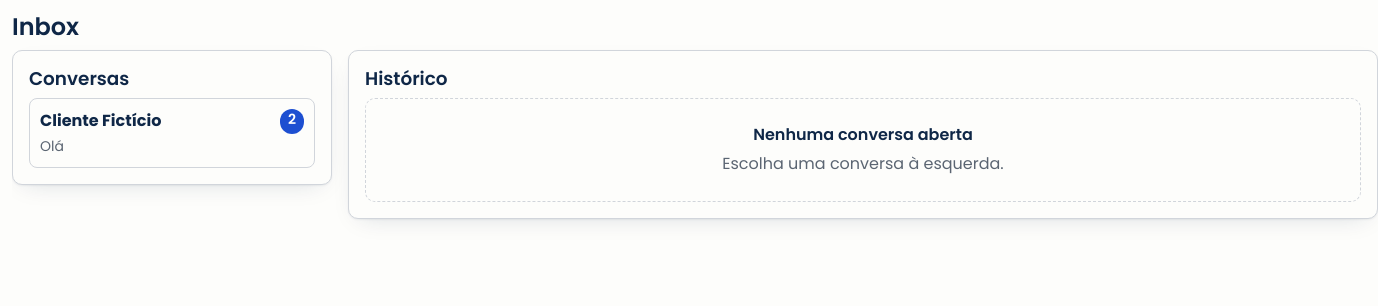
it: TELA 3 — Inbox › Read Only vê a sugestão mas NÃO vê botão de enviar/descartar nem campo de resposta
Step 1. Click the button "Cliente Fictício 2 Olá" → (101, 120), box [29,98,315,168]
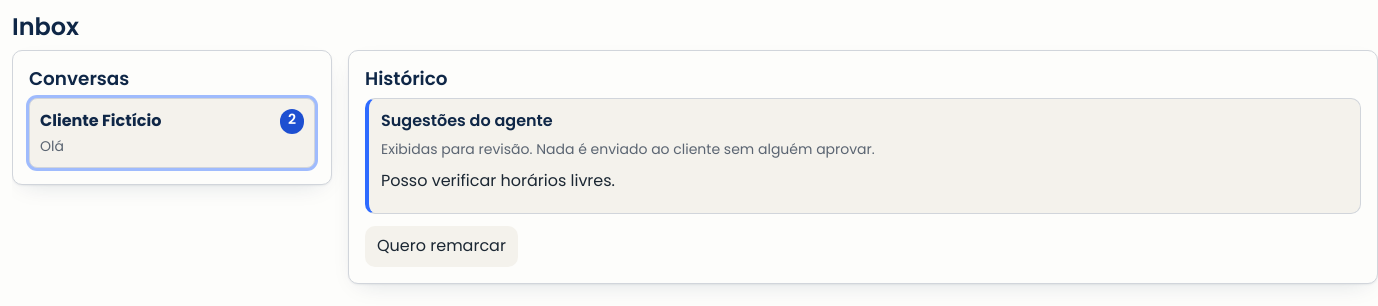
Result: the text "Posso verificar horários livres." is shown at [381,169,615,192]
